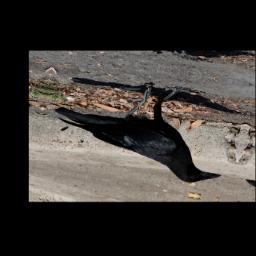Crow: (43, 68, 241, 190)
